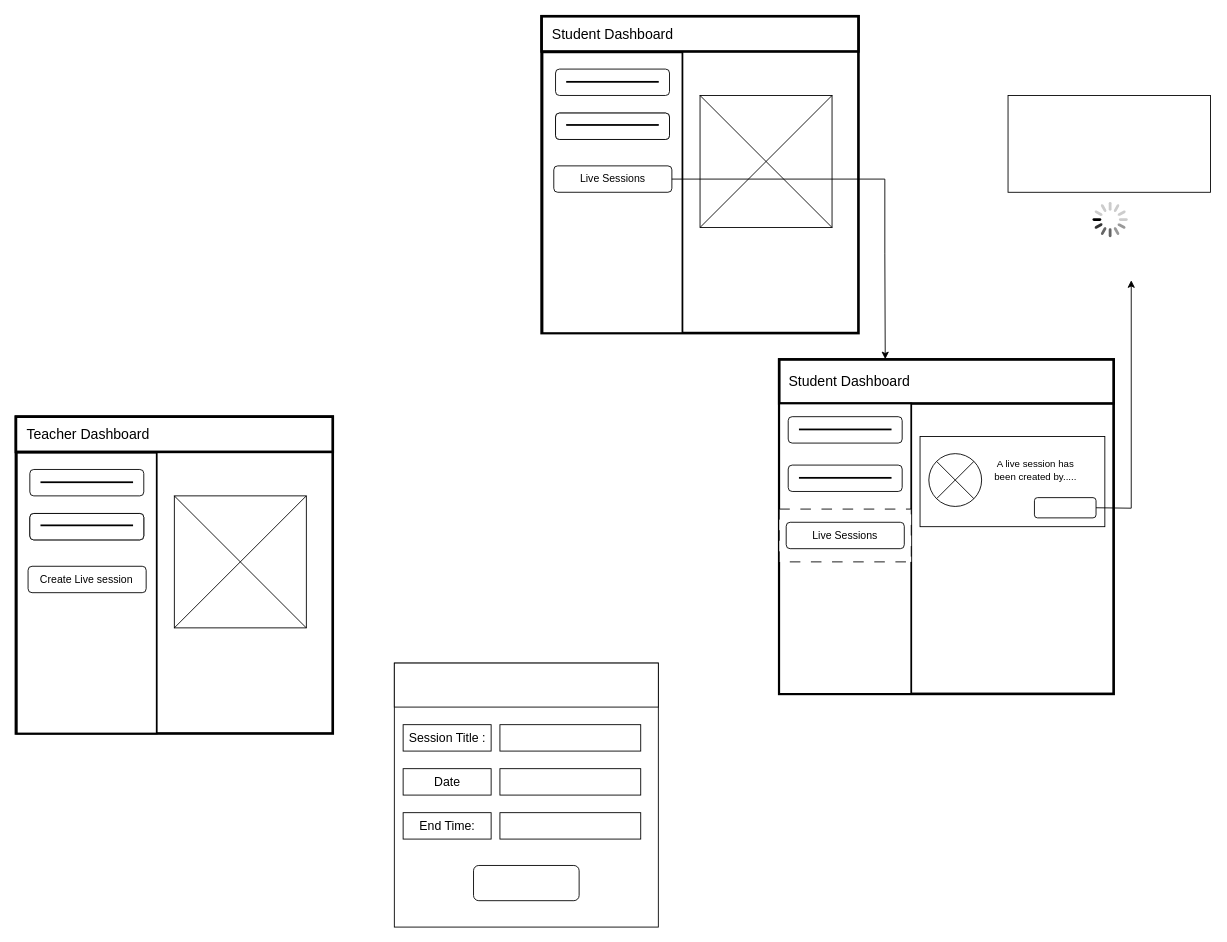
Image size: 1227x942. Some labels were removed from this diagram. The shapes that lost their labels are listed below. From the top down, each one's centre as x and y in pixels, then its label:
the point at 1108,143: Please wait for permission
the point at 1065,507: Join
the point at 525,684: Create a live session
the point at 526,883: Start
